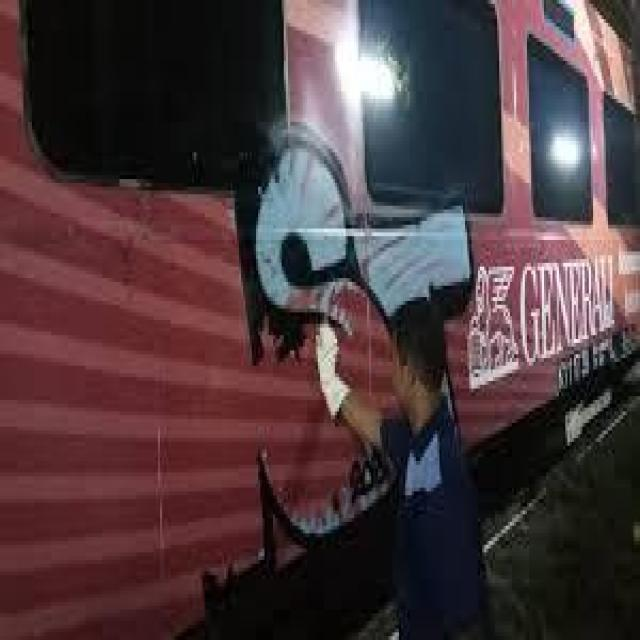nonspitting: (239, 122, 474, 545), (469, 255, 617, 398)
